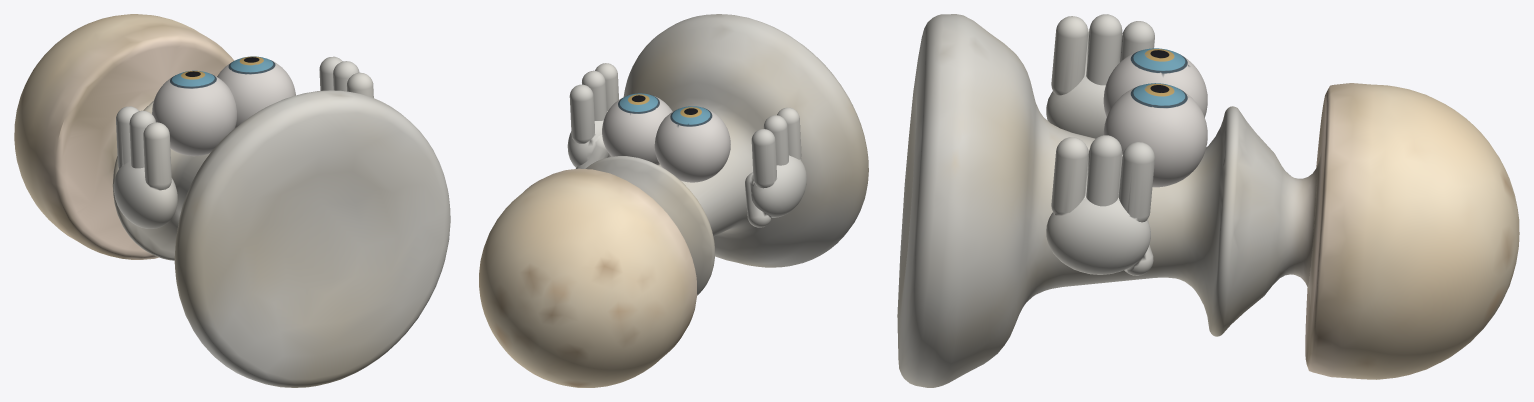
File: pawn-light-fallen.glb
The picture shows the model from 3 angles, left to right: view 1: azimuth 30°, elevation 25°; view 2: azimuth 150°, elevation 25°; view 3: azimuth 270°, elevation 25°; orthographic projection. The views are drawn at different scales.
Parts seen in each view (by area): view 1: body, eye, hand.1, hand.0; view 2: body, eye, hand.1, hand.0; view 3: body, hand.0, eye, hand.1.
Boxes of the visible parts, box(x1,y1,x2,y2) form: body: box(14, 14, 450, 387); eye: box(152, 56, 295, 156); hand.1: box(113, 106, 177, 228); hand.0: box(319, 56, 373, 97); body: box(479, 14, 868, 387); eye: box(602, 93, 730, 182); hand.1: box(745, 107, 806, 227); hand.0: box(567, 63, 618, 168); body: box(897, 14, 1519, 387); hand.0: box(1046, 135, 1154, 275); eye: box(1103, 48, 1207, 187); hand.1: box(1046, 14, 1154, 138).
Size of the model in its own units: 1.73 by 1.72 by 2.87.
